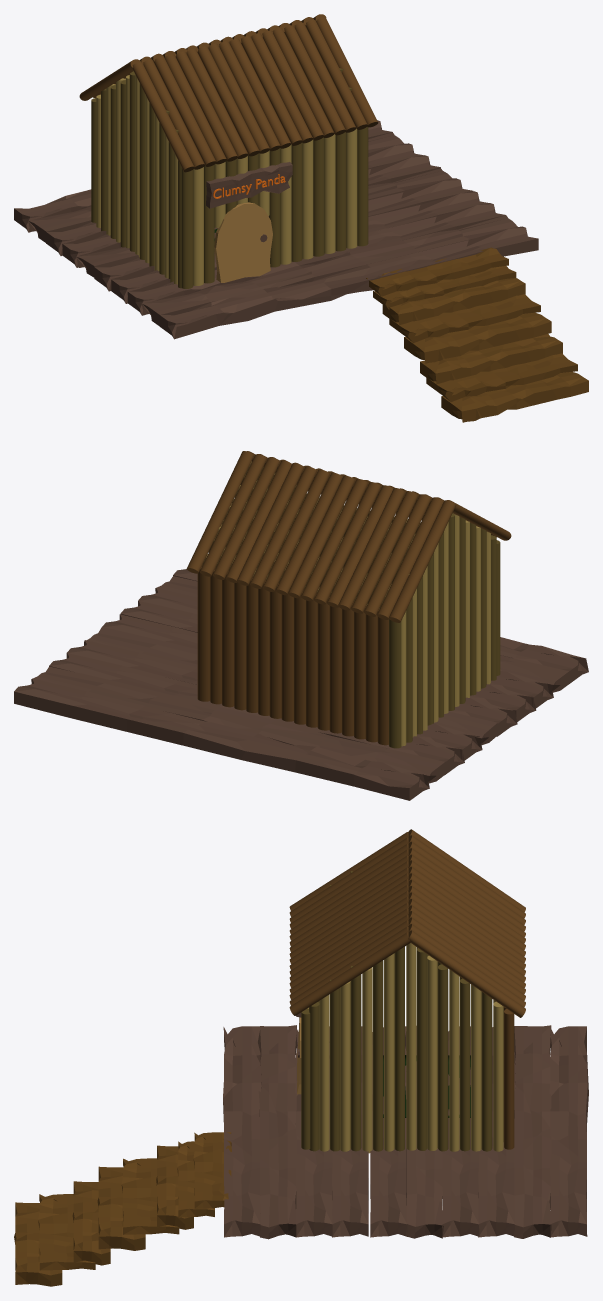
Rendered from house-JOINED.fbx.
The picture shows the model from 3 angles, top to bottom: view 1: azimuth 30°, elevation 25°; view 2: azimuth 150°, elevation 25°; view 3: azimuth 270°, elevation 25°; orthographic projection. The views are drawn at different scales.
Visible parts, largest first — view 1: HOUSE; view 2: HOUSE; view 3: HOUSE.
Part boxes in pixels (left/top/right/bottom): HOUSE: left=14, top=14, right=588, bottom=422; HOUSE: left=14, top=451, right=588, bottom=800; HOUSE: left=14, top=829, right=588, bottom=1286.
Size of the model in its own units: 792 by 570 by 966.
